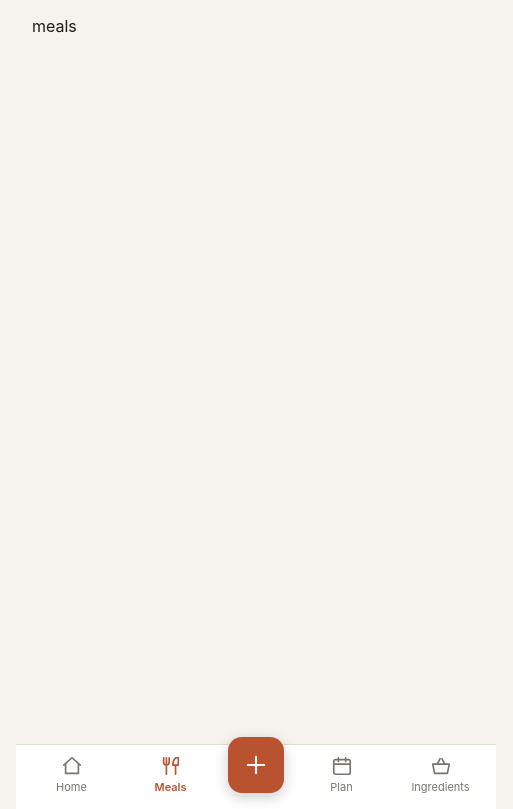
it: AppLayout › highlights the active tab and navigates
Click the link "Home": x=72, y=774 [56,755,87,794]
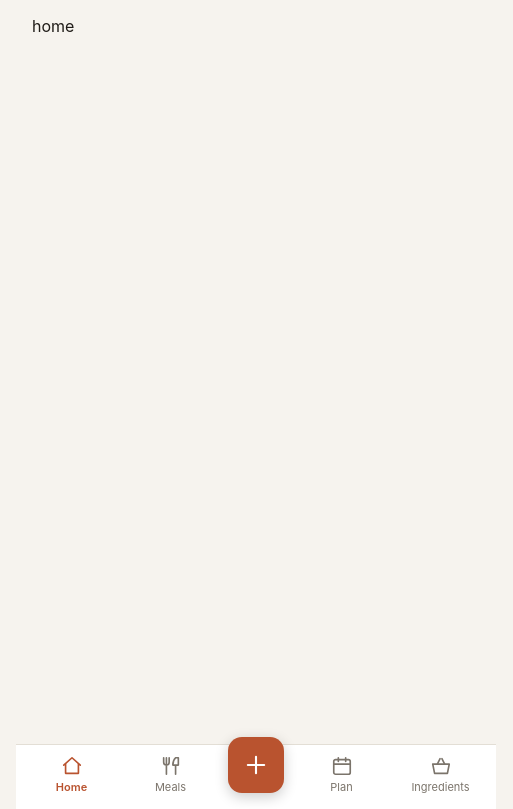
expect the text "home" is shown: met, box [32,16,74,36]
